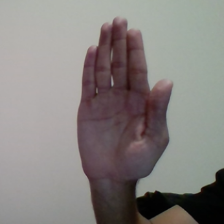left: (68, 15, 179, 186)
